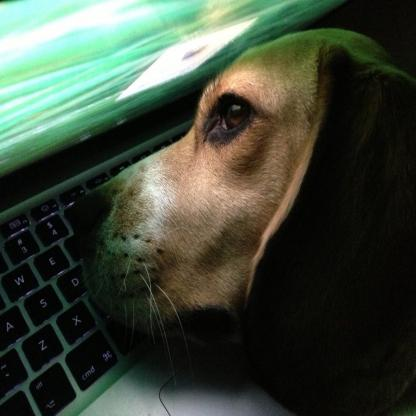board: (0, 0, 349, 415)
